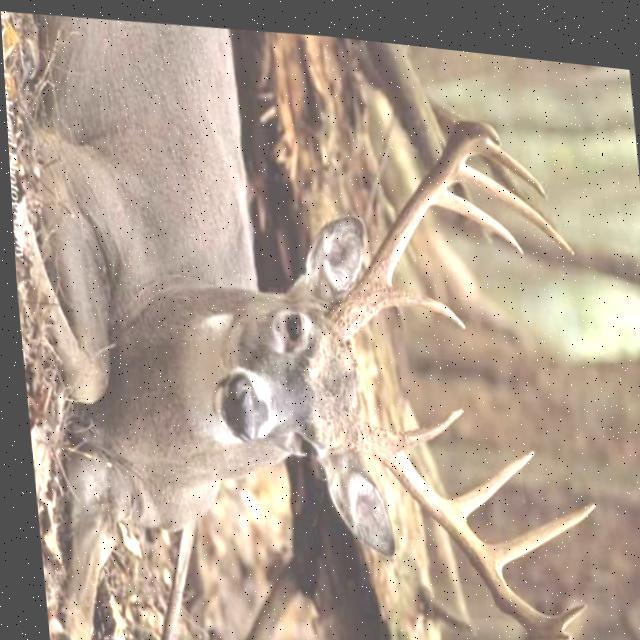E1: (538, 590, 579, 616)
L-F: (346, 407, 563, 630)
L-G1: (385, 397, 458, 443)
L-G2: (436, 436, 529, 511)
L-G3: (477, 488, 590, 560)
R-F: (325, 113, 496, 332)
R-G1: (377, 274, 462, 320)
R-G2: (429, 179, 521, 244)
R-G3: (451, 152, 572, 243)
R-G4: (492, 136, 545, 187)
